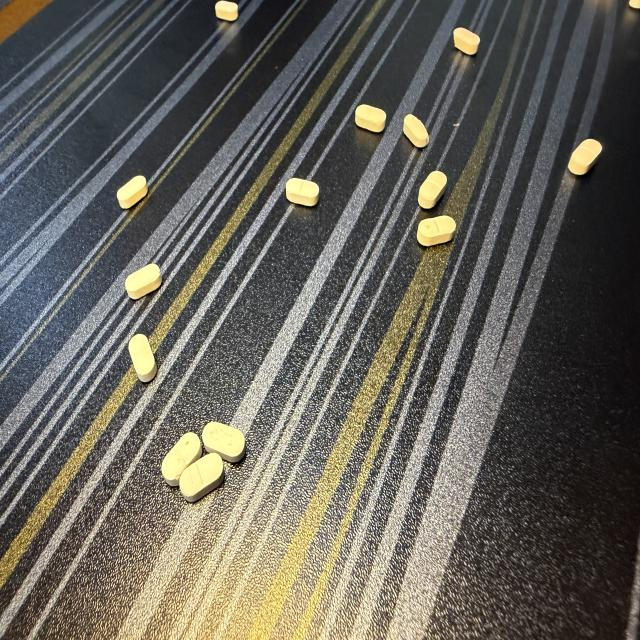pill: (180, 453, 224, 502), (162, 433, 201, 486), (203, 422, 245, 462), (129, 334, 156, 382), (125, 264, 161, 299), (569, 139, 602, 175), (417, 216, 456, 246), (418, 171, 446, 208), (117, 176, 147, 208), (286, 178, 319, 206), (355, 105, 386, 132), (404, 115, 428, 147), (454, 28, 480, 54), (215, 0, 238, 21), (629, 0, 639, 9)
